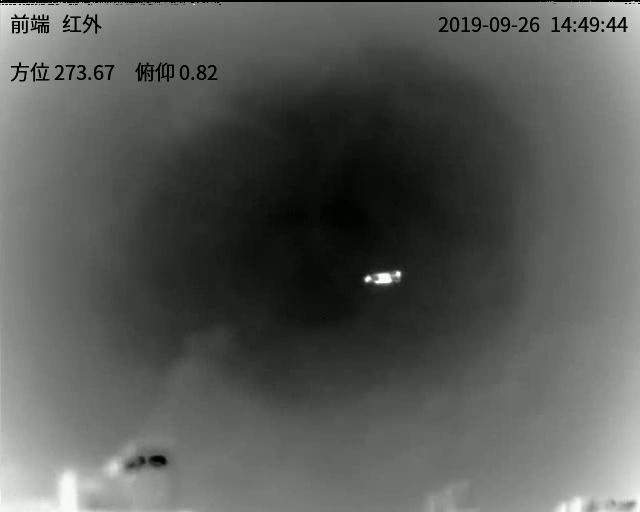DRONE: (362, 270, 403, 285)
